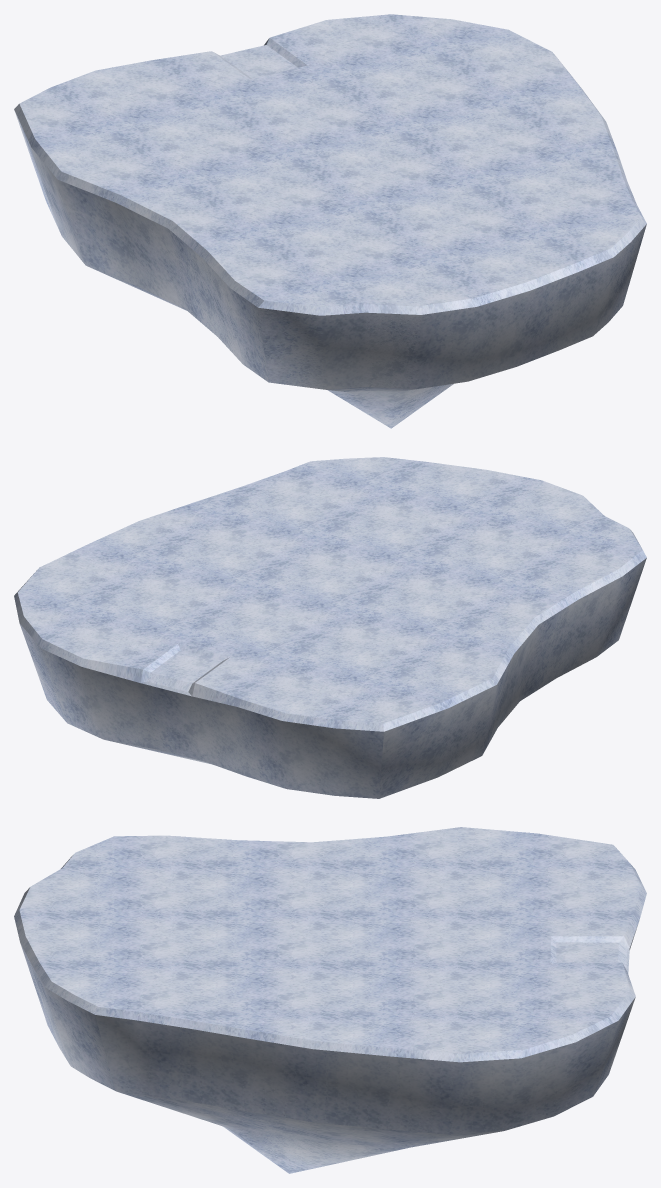
Rendered from icePlatform.fbx.
3 views of the same model, one above another, from view 1: azimuth 30°, elevation 25°; view 2: azimuth 150°, elevation 25°; view 3: azimuth 270°, elevation 25° (orthographic). The views are drawn at different scales.
Parts seen in each view (by area): view 1: pPlane9; view 2: pPlane9; view 3: pPlane9.
Part boxes in pixels (x1,y1,x2,y2): pPlane9: [14, 14, 646, 428]; pPlane9: [14, 457, 646, 798]; pPlane9: [14, 827, 646, 1173].
Bounding box in the file's own units: 15.45 × 7.36 × 17.88.
